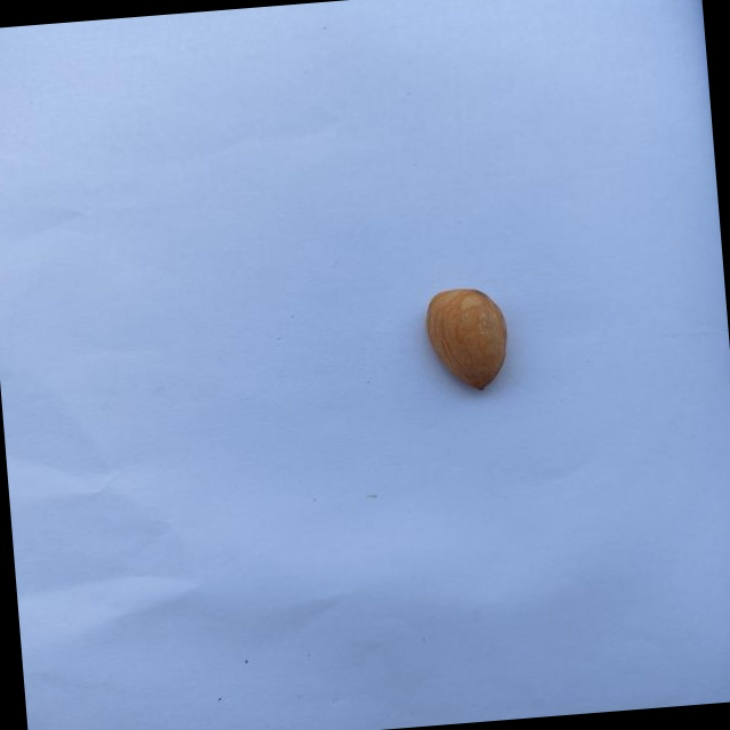grade2: (416, 282, 515, 398)
